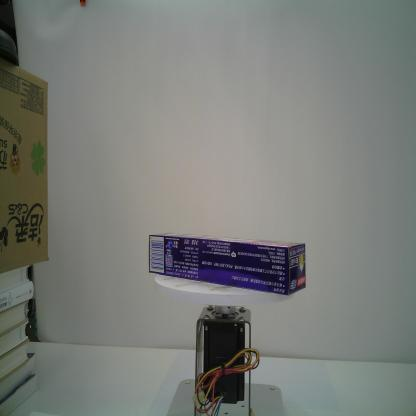Personal Hygiene: (147, 230, 307, 297)
